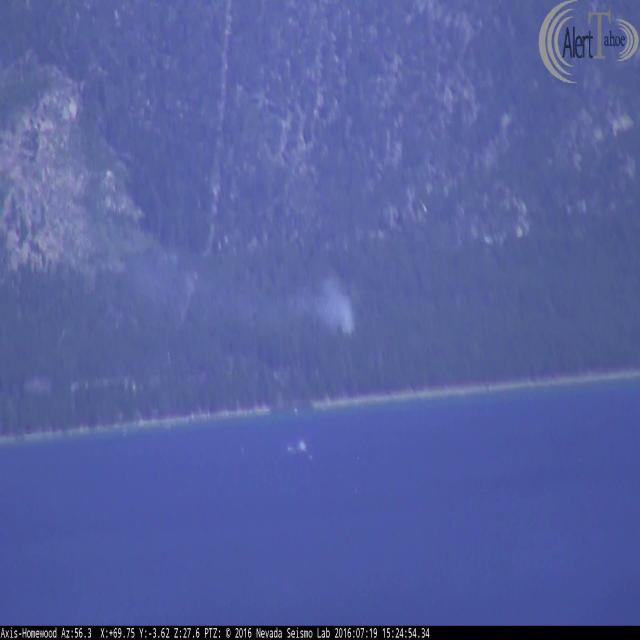smoke: (304, 266, 364, 336)
